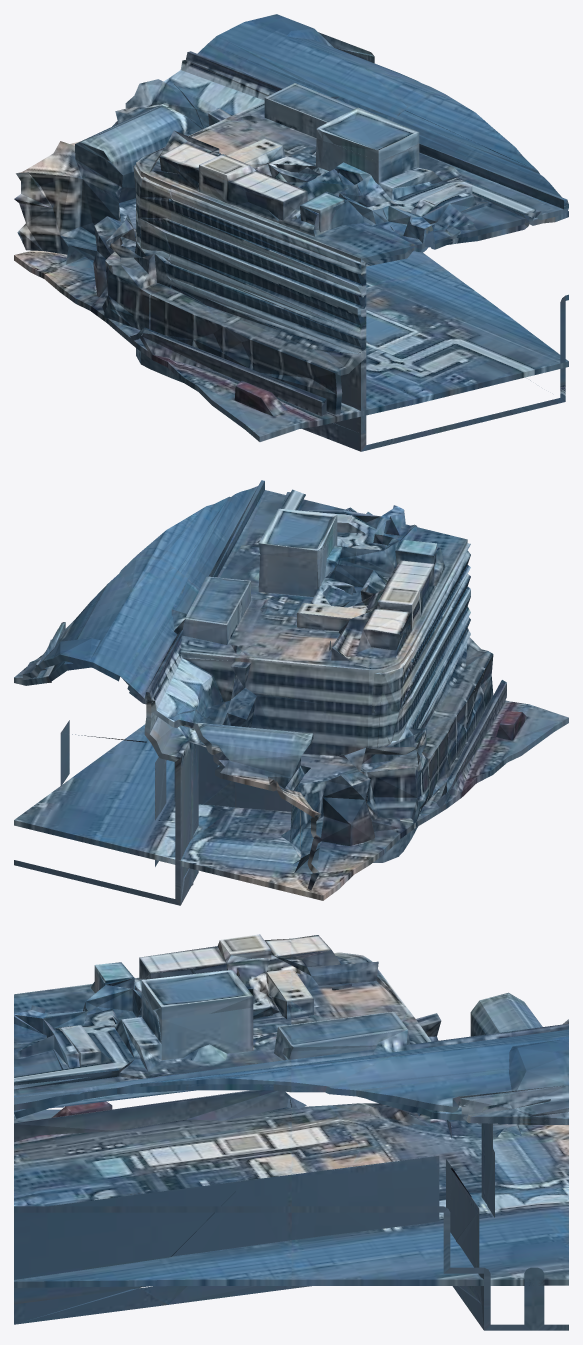
Rendered from chunk_-1_7.glb.
3 views of the same model, one above another, from view 1: azimuth 30°, elevation 25°; view 2: azimuth 150°, elevation 25°; view 3: azimuth 270°, elevation 25° (orthographic). The views are drawn at different scales.
Visible parts, largest first — view 1: hero-chunk; view 2: hero-chunk; view 3: hero-chunk.
Part boxes in pixels (x1,y1,x2,y2): hero-chunk: (14, 14, 568, 451); hero-chunk: (14, 480, 568, 905); hero-chunk: (14, 934, 568, 1330).
Bounding box in the file's own units: 55.43 × 42 × 76.32.
3 materials, 3 textured.
